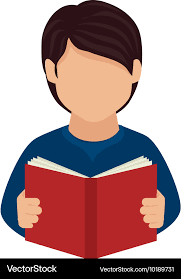Book: (19, 154, 158, 262)
Reading: (8, 2, 172, 252)
